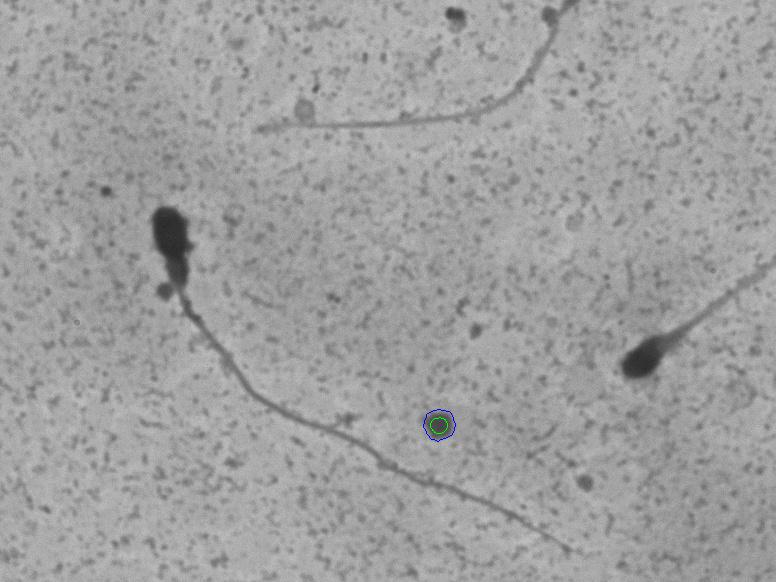Abnormal: (103, 186, 498, 519), (616, 223, 767, 426)
